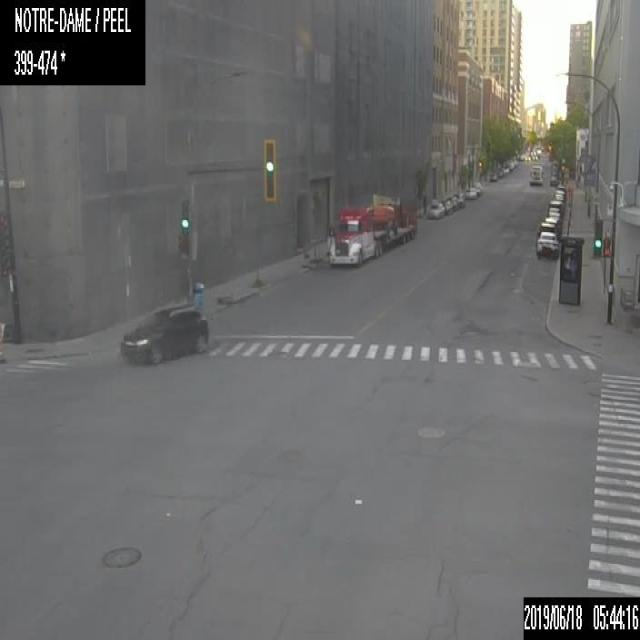bus: (529, 163, 542, 184)
vehicle: (324, 193, 416, 266), (122, 302, 209, 362), (536, 230, 558, 258), (536, 220, 556, 237), (544, 216, 559, 235), (428, 201, 442, 218), (548, 200, 562, 217), (548, 207, 560, 219), (554, 193, 564, 207), (440, 198, 450, 212), (464, 187, 476, 198), (556, 184, 566, 197), (448, 195, 457, 209), (455, 193, 465, 205), (471, 182, 480, 195), (553, 188, 564, 198)
